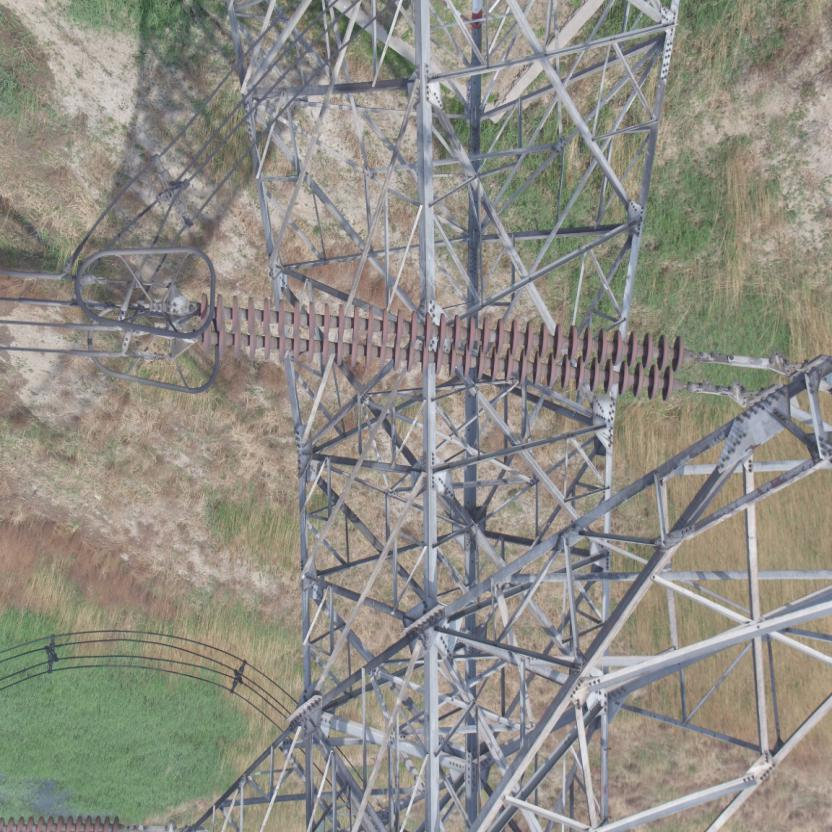insulator: (179, 288, 724, 408)
